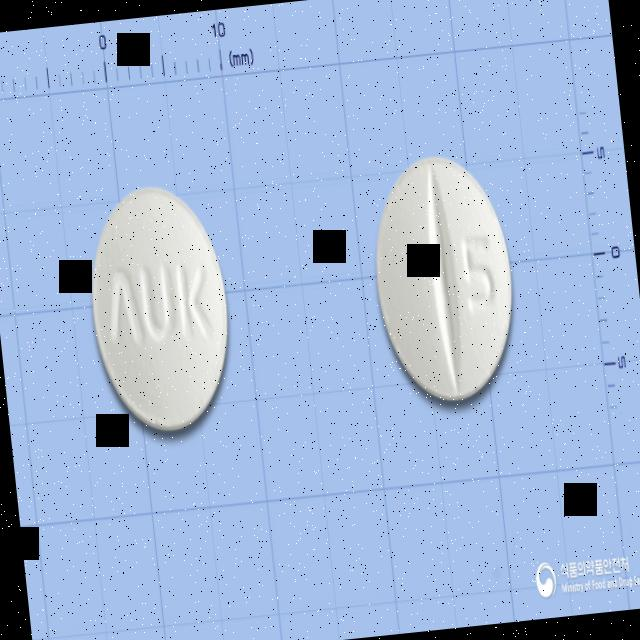Ciprox: (72, 172, 246, 450), (358, 147, 526, 416)
